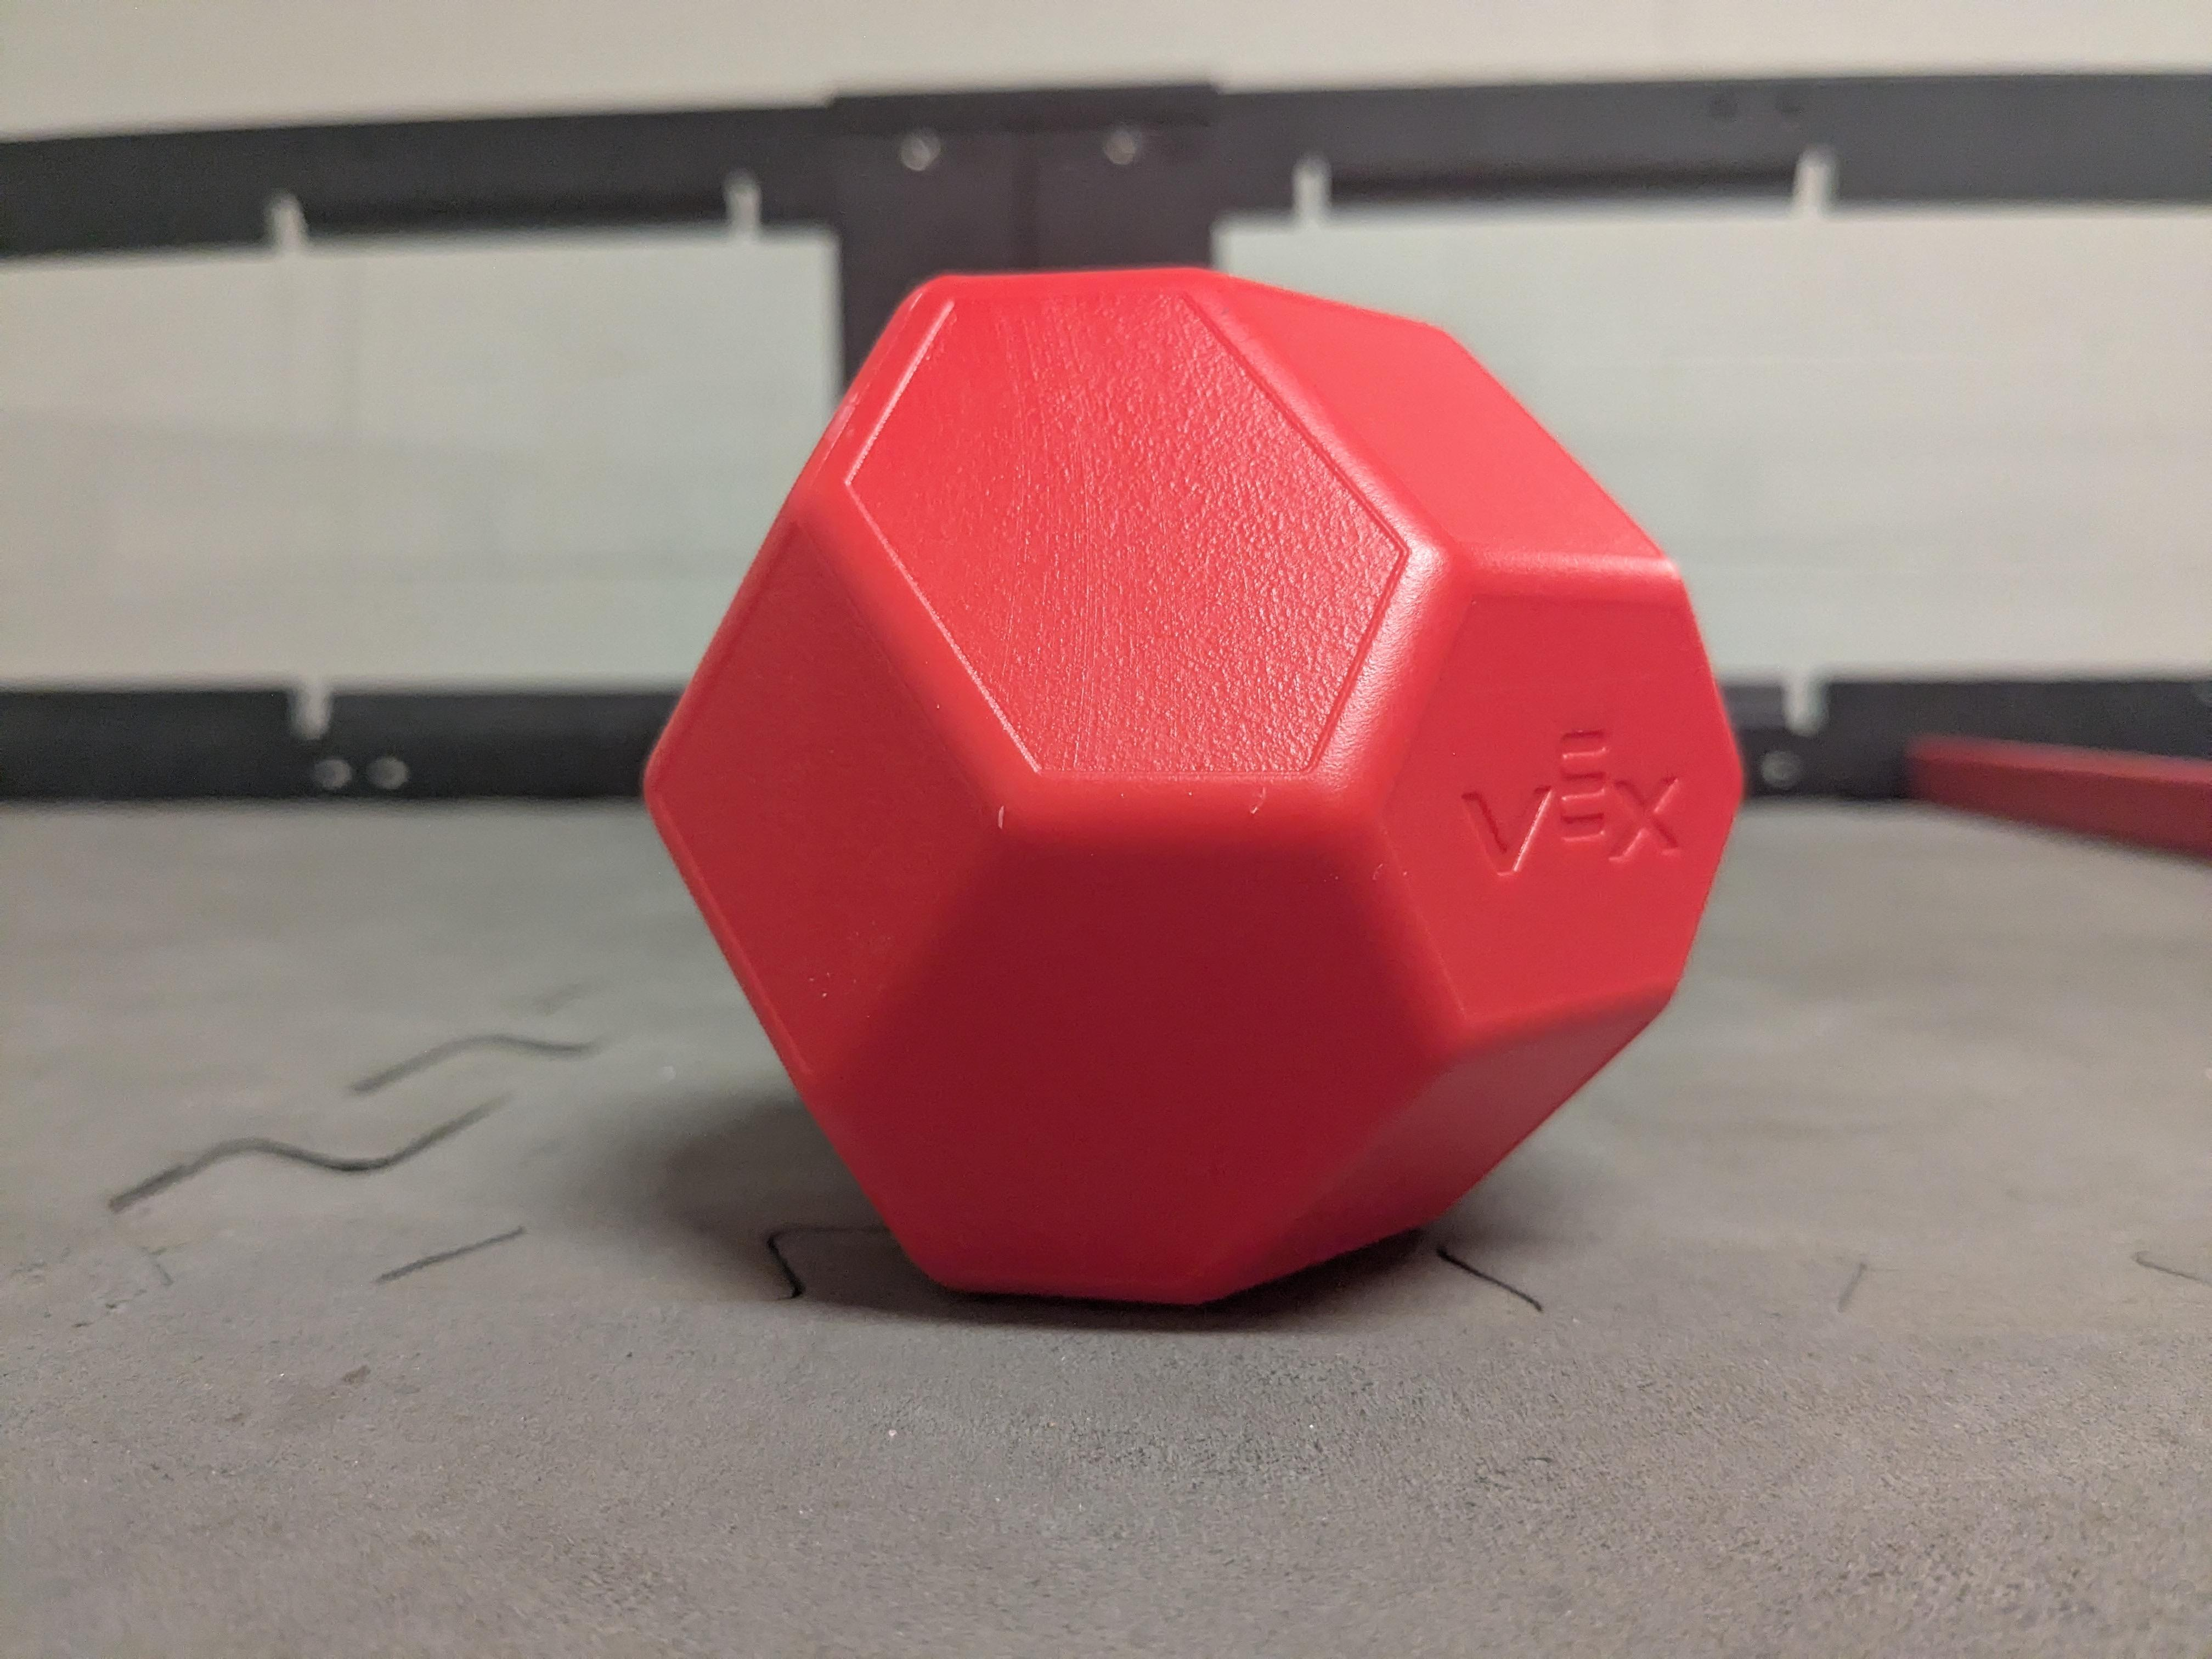Vex-Pieces-RED: (646, 270, 1742, 1304)
